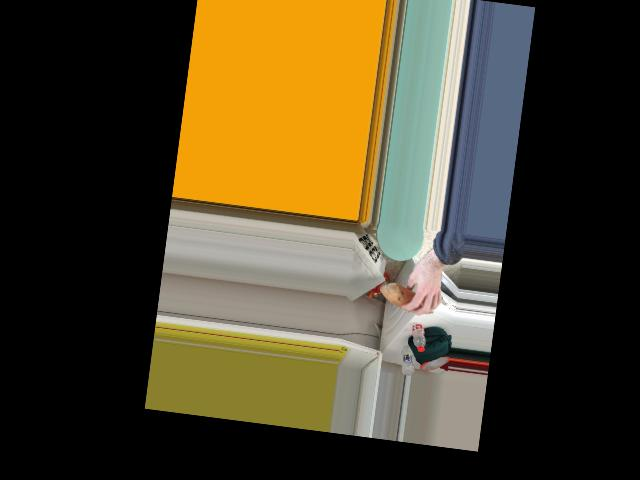sweet_potato: (379, 283, 439, 316)
